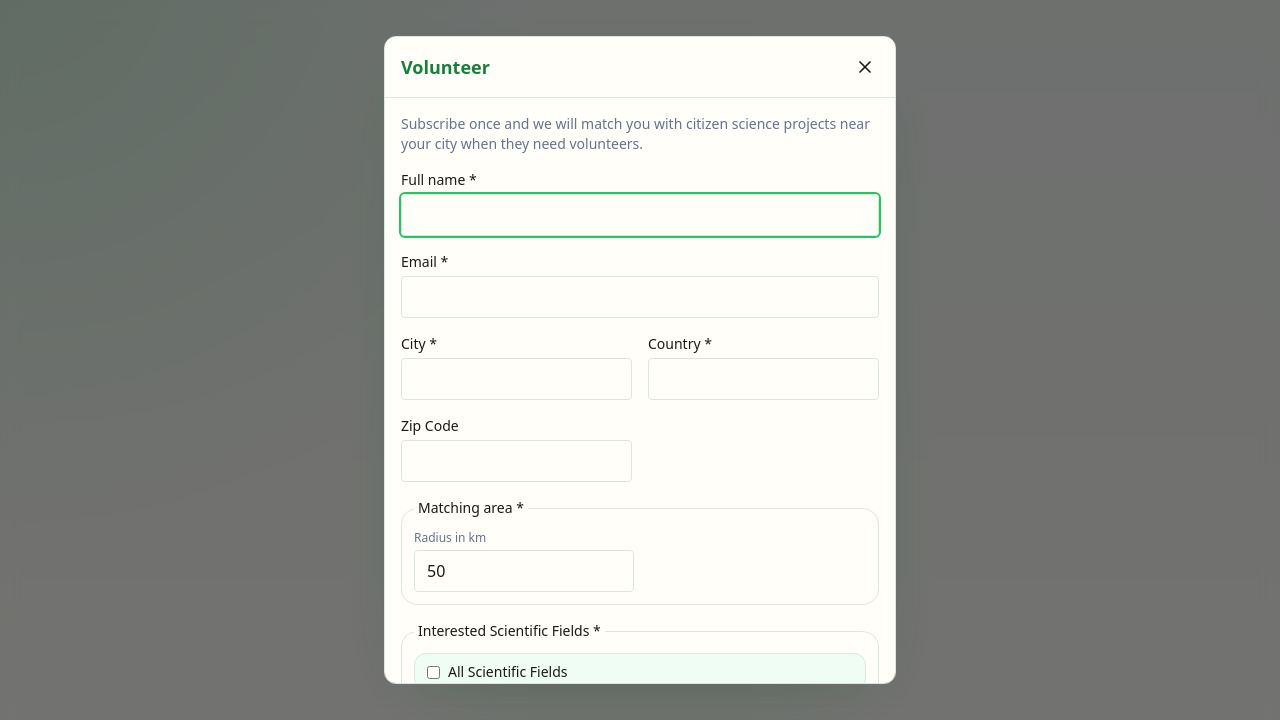
Test: VolunteerModal › requires consent before submitting
Type "Test User" into the field labelled "Full name *" at (640, 215), box [401, 194, 879, 236]
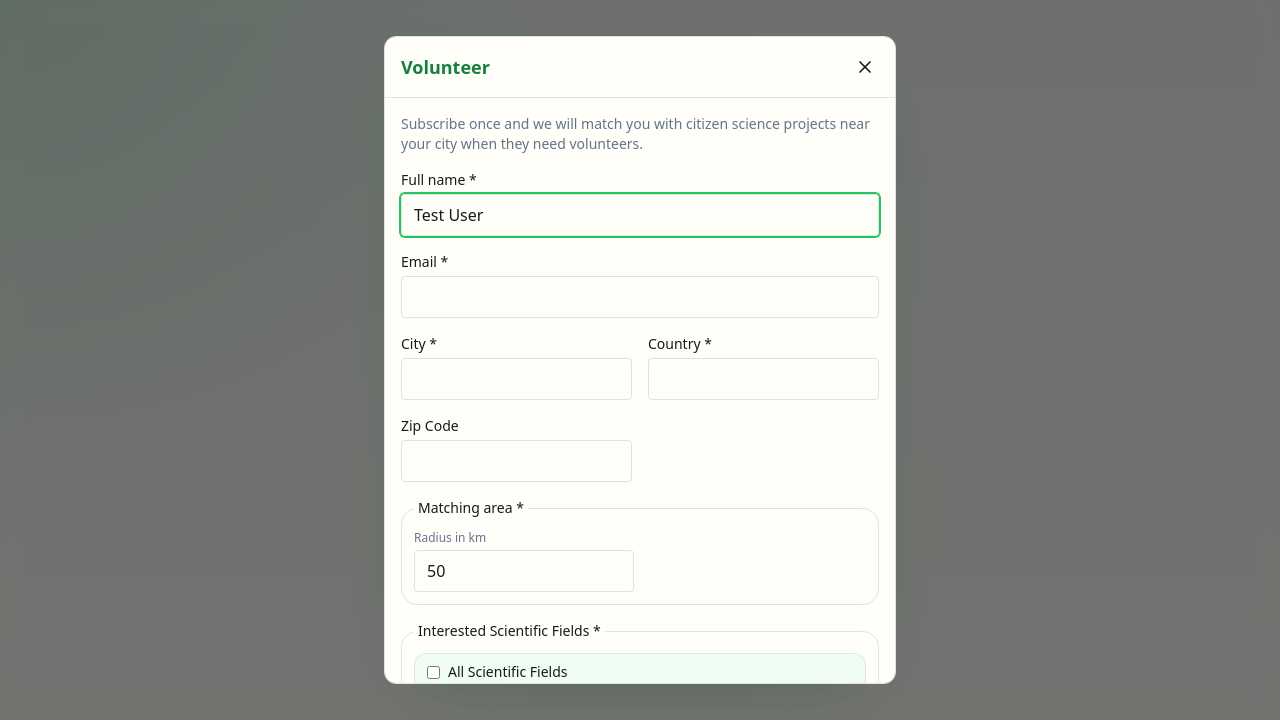
Type "test@example.com" into the field labelled "Email *" at (640, 297), box [401, 276, 879, 318]
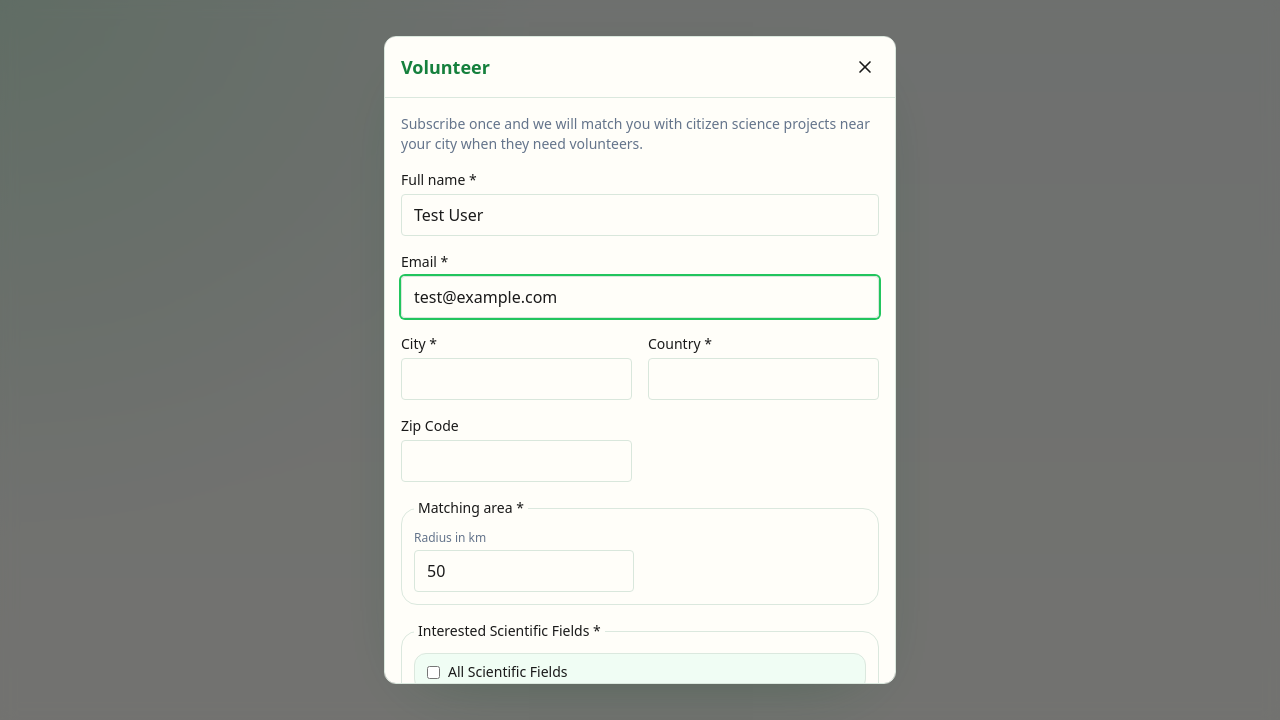
Type "Brasov" into the field labelled "City *" at (516, 379), box [401, 358, 632, 400]
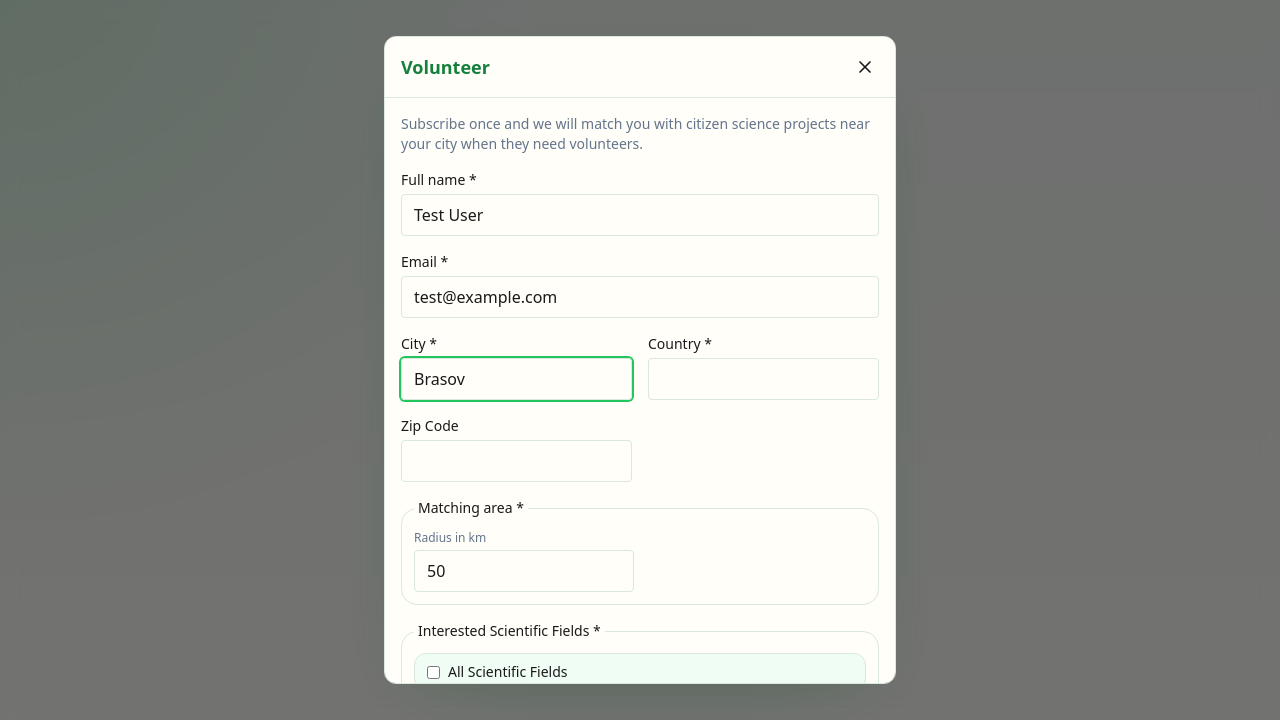
Type "Romania" into the field labelled "Country *" at (764, 379), box [648, 358, 879, 400]
(page scrolled)
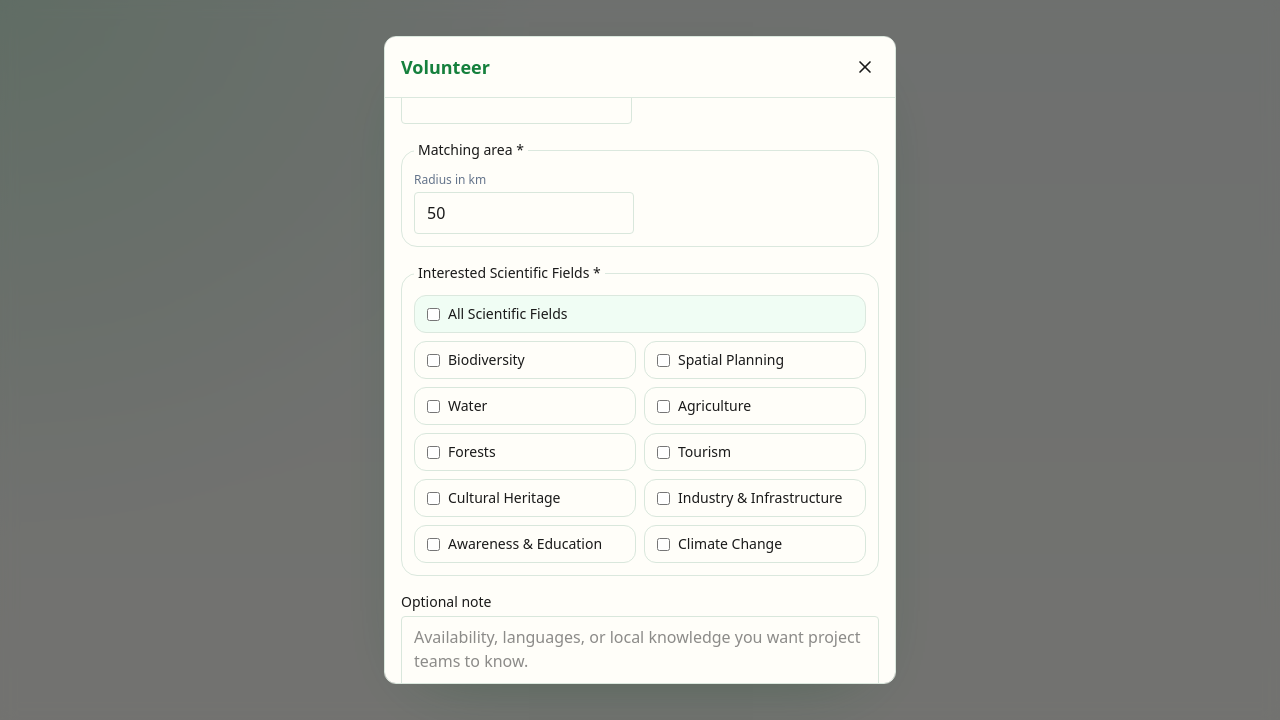
Click the checkbox labelled "Biodiversity" at (434, 360), box [427, 354, 440, 366]
(page scrolled)
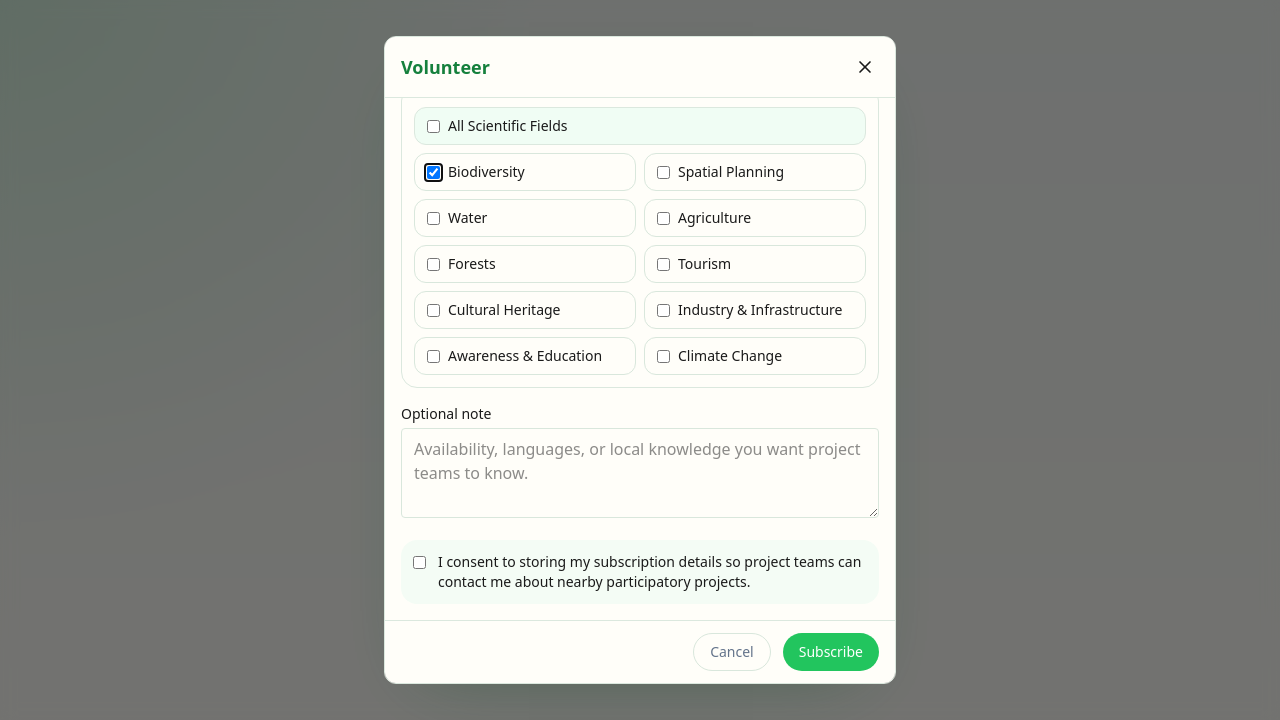
Click the button "Subscribe" at (831, 652), box [783, 633, 879, 671]
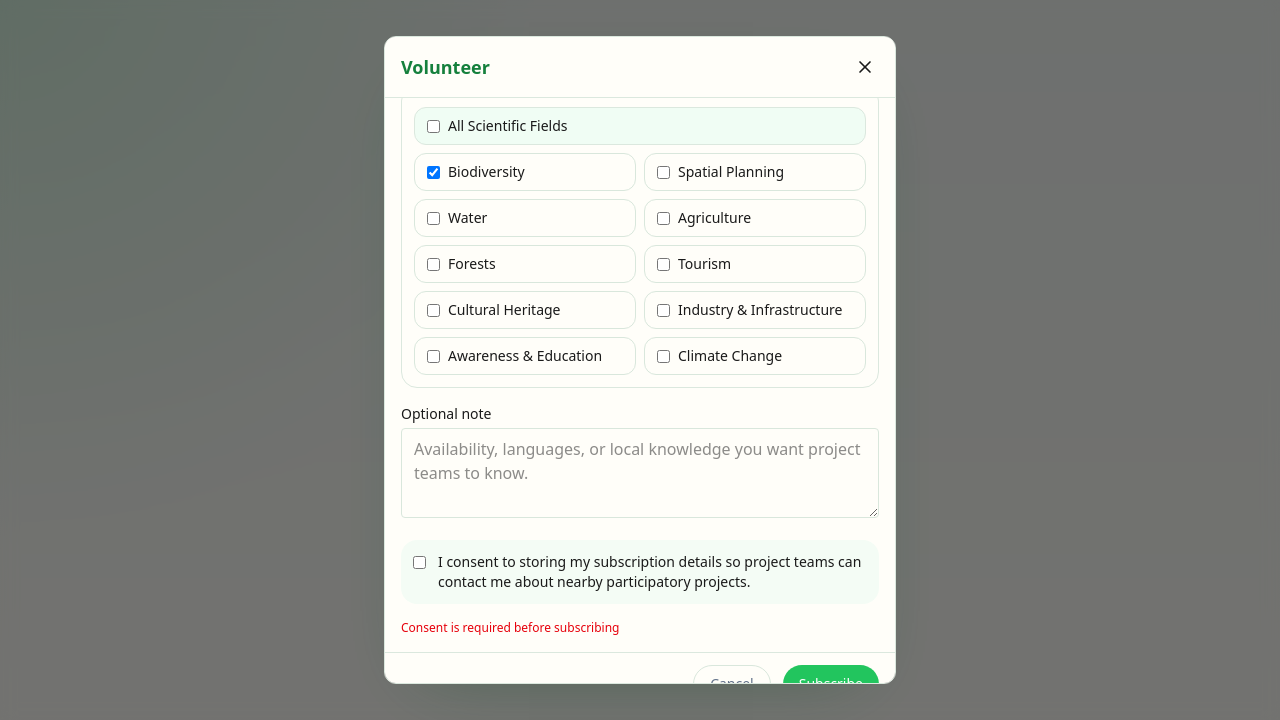
Result: the text "Consent is required before subscribing" is shown at [401, 619, 620, 636]
